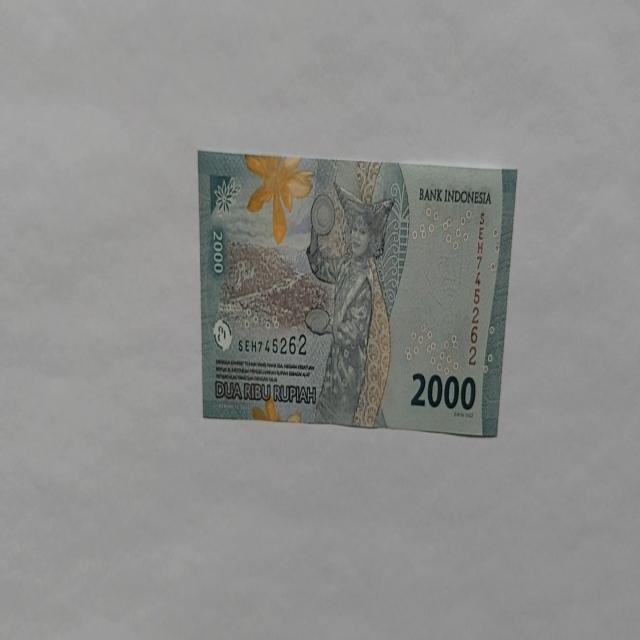dua ribu rupiah: (197, 151, 517, 437), (304, 181, 395, 427)
